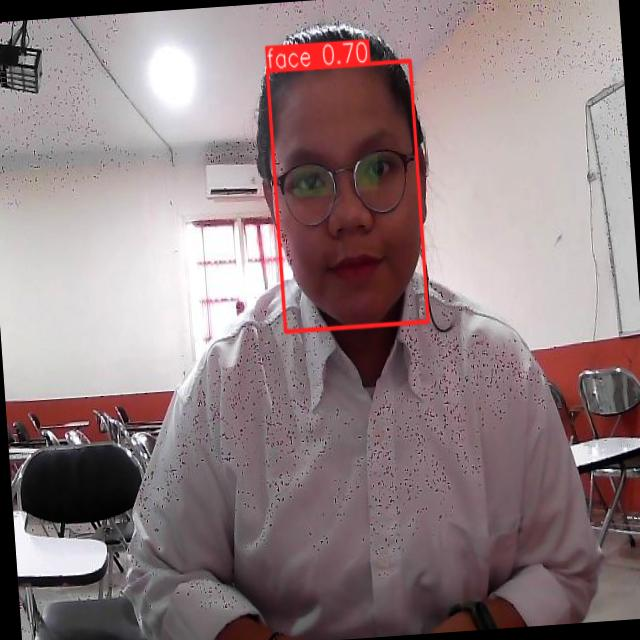glasses: (265, 145, 426, 231)
